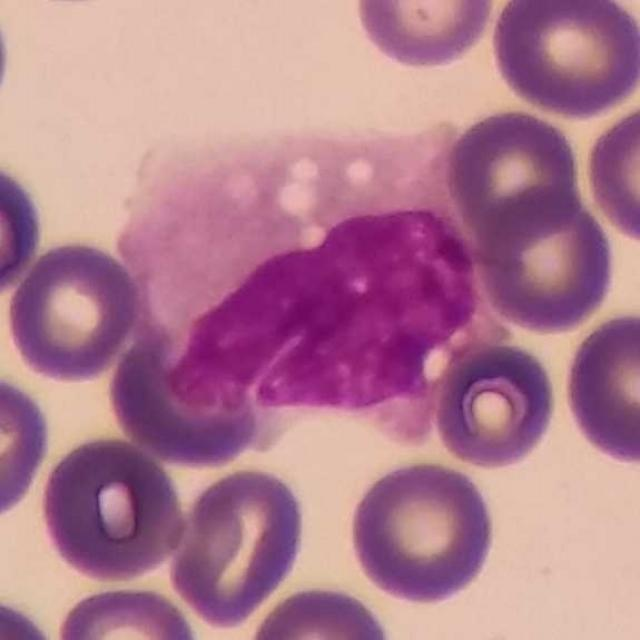Monocyte: (116, 121, 508, 424)
Platelets: (0, 1, 17, 124)
RBC: (105, 322, 272, 470), (165, 463, 312, 630), (345, 456, 500, 608), (36, 432, 189, 585), (470, 186, 619, 335), (2, 235, 147, 385), (442, 103, 586, 245), (486, 0, 640, 120), (430, 337, 561, 473), (558, 306, 640, 469), (349, 0, 499, 72), (243, 580, 396, 640), (52, 581, 205, 640), (582, 97, 640, 250), (0, 370, 55, 526), (0, 151, 48, 305), (0, 590, 61, 640)
